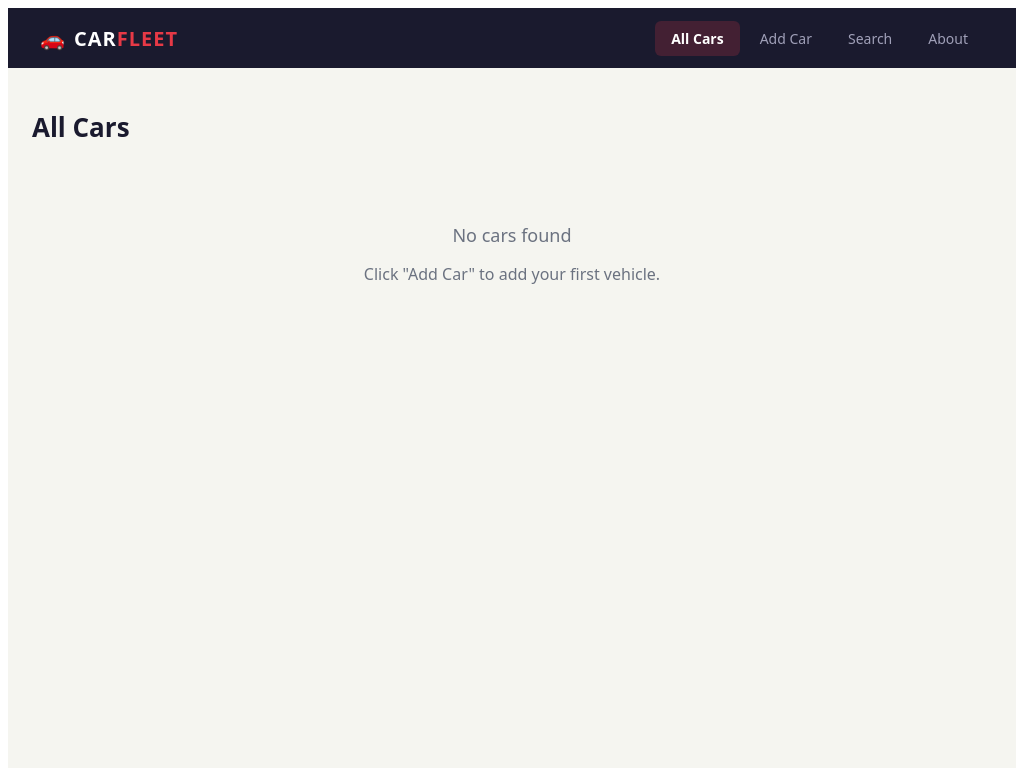
Add Car › navigates to Add Car page
Click the button "Add Car" at coordinates (786, 38), box [744,20,828,56]
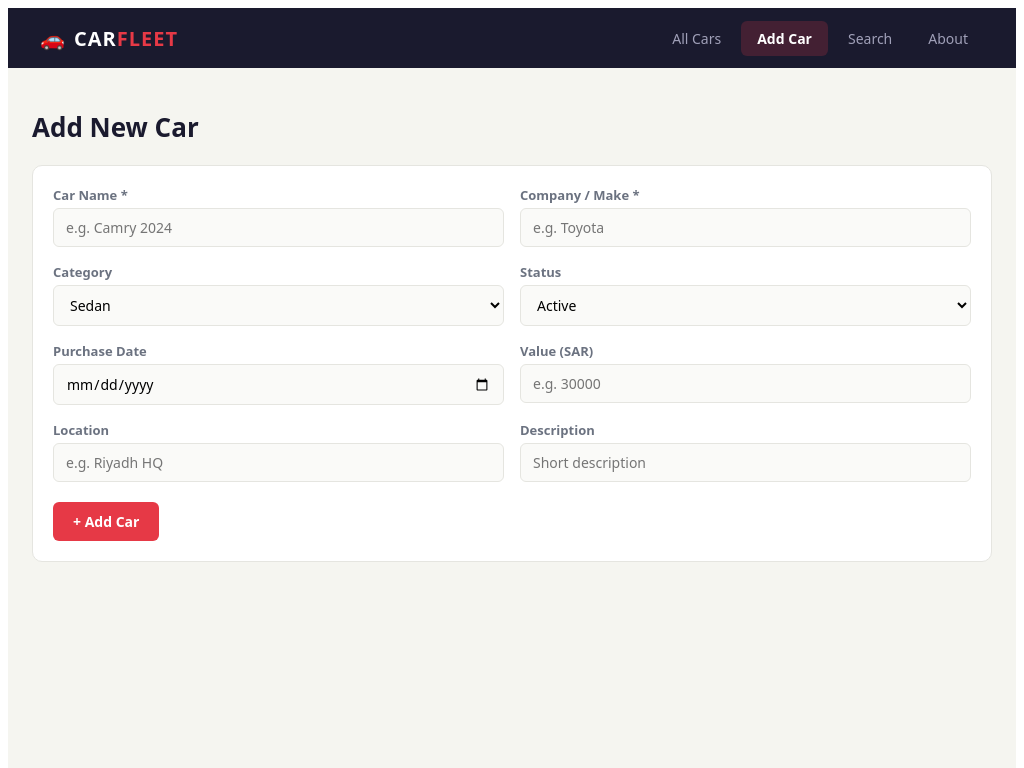
Check: the heading "Add New Car" is shown, box [32,109,199,145]
